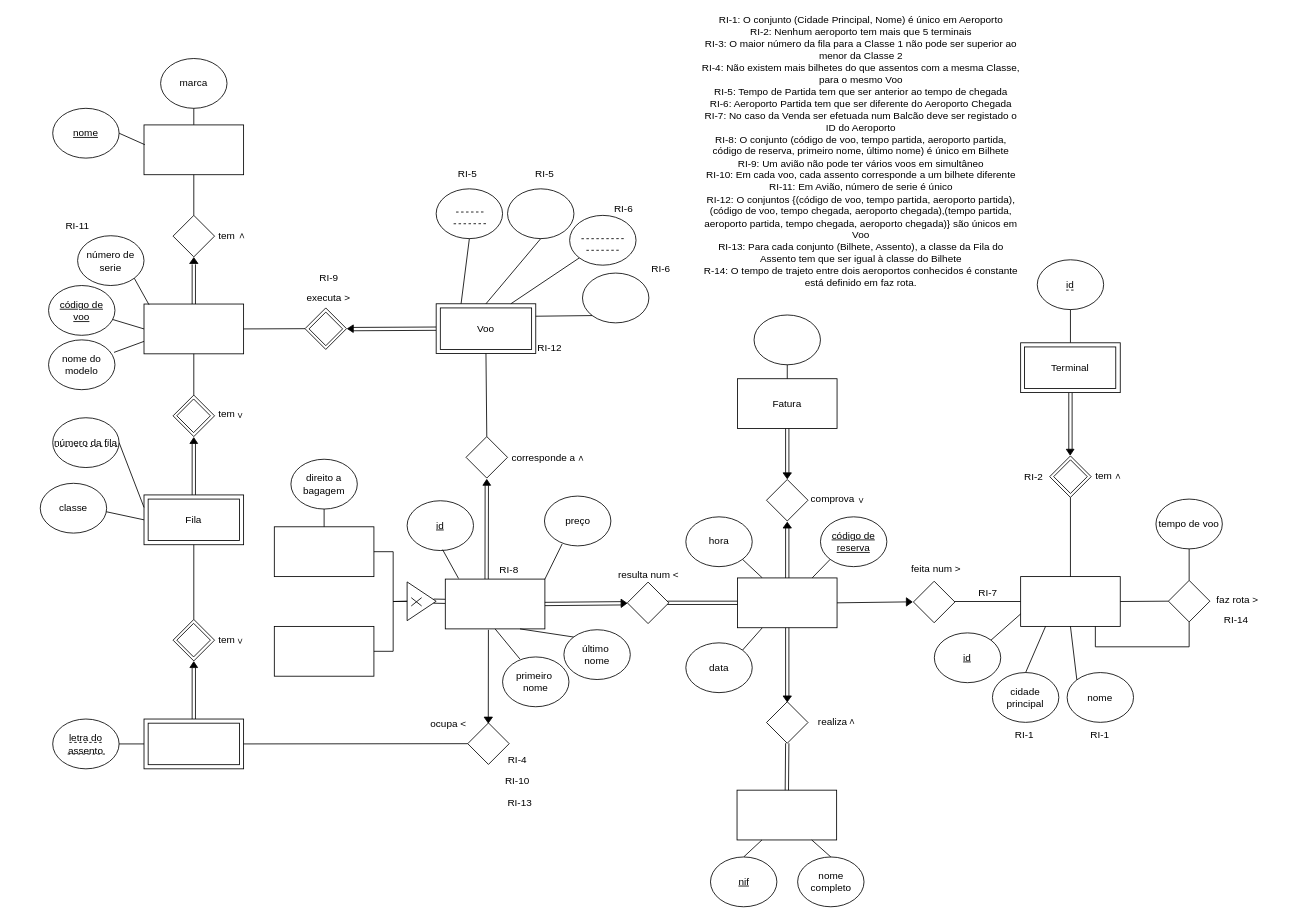
Image size: 1300x921. Some labels were removed from this diagram. Here are the shapes that lost their labels. From the top down, the centre of each, then its label:
At (193,149): "Modelo".
At (469,213): "tempo partida".
At (540,213): "tempo chegada".
At (602,240): "aeroporto partida".
At (615,297): "aeroporto chegada".
At (193,328): "Avião".
At (786,339): "código único".
At (323,551): "Classe 2".
At (494,603): "Bilhete".
At (787,602): "Venda".
At (1070,601): "Aeroporto".
At (323,651): "Classe 1".
At (193,743): "Assento".
At (786,814): "Comprador".
